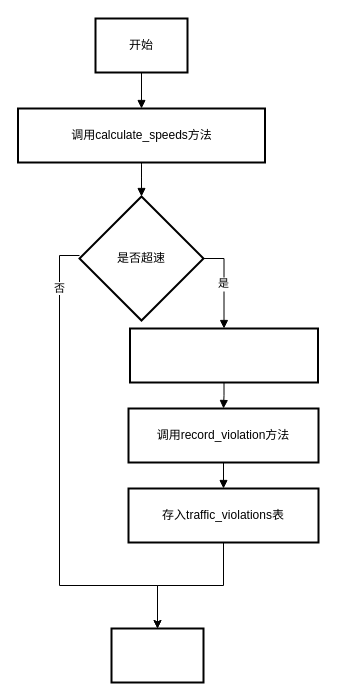
The diagram is 337 pixels wide and 700 high, and some of its shapes have lost their labels. The shapes that lost their labels are listed below. From the top down, each one's box as (x1, y1, x2, y2) in pixels, then its label:
(128, 327, 318, 383): 记录违法车辆信息
(110, 627, 204, 683): 结束
